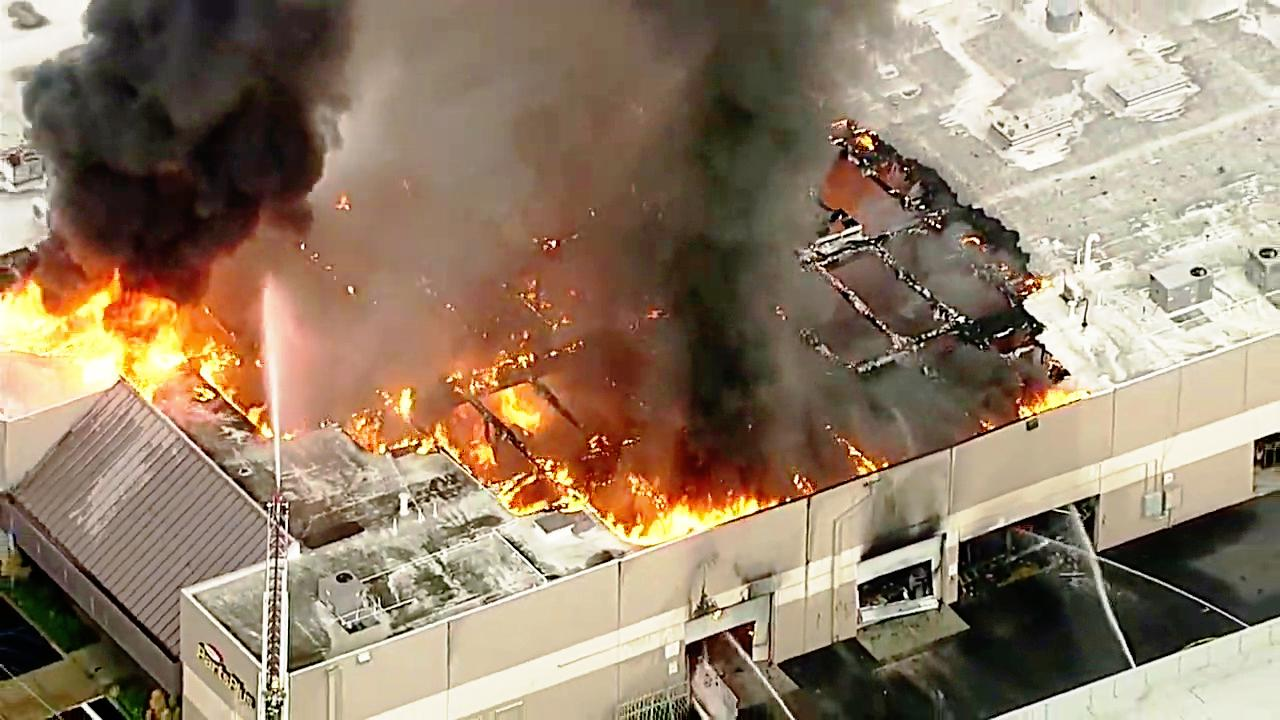fire: (0, 261, 228, 388), (589, 479, 769, 546)
smoke: (57, 0, 370, 282), (670, 0, 871, 427)
